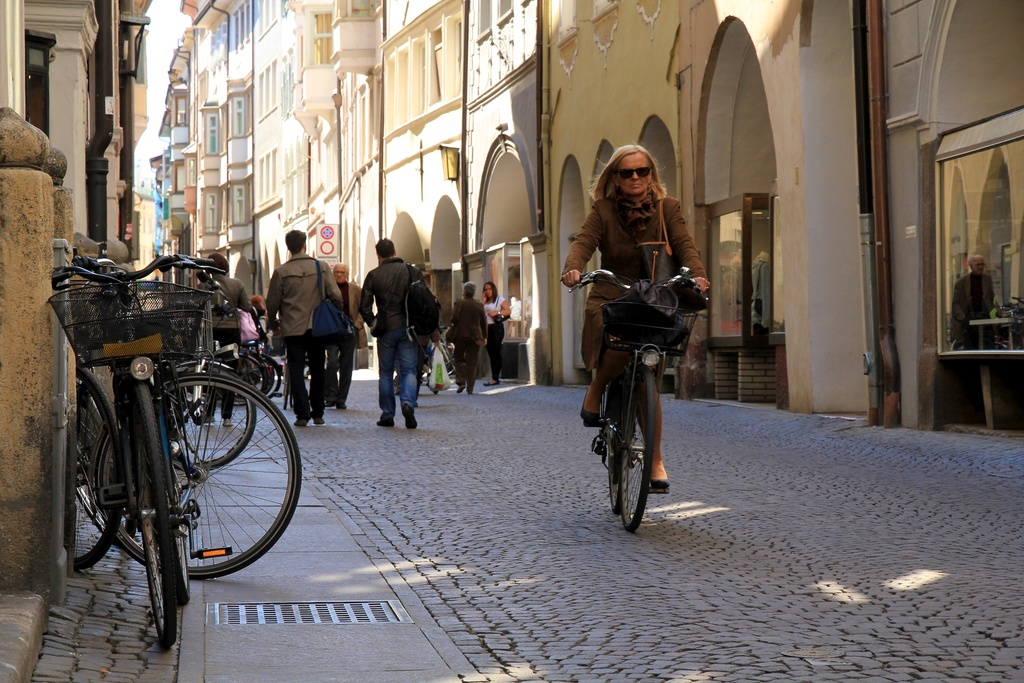Footwear: (644, 462, 676, 491), (579, 386, 597, 425), (291, 408, 312, 427), (307, 407, 328, 425), (372, 413, 394, 429), (323, 393, 339, 411), (405, 403, 414, 427), (333, 402, 348, 415), (221, 416, 234, 429), (481, 379, 502, 386), (465, 386, 476, 398), (457, 383, 465, 395)
